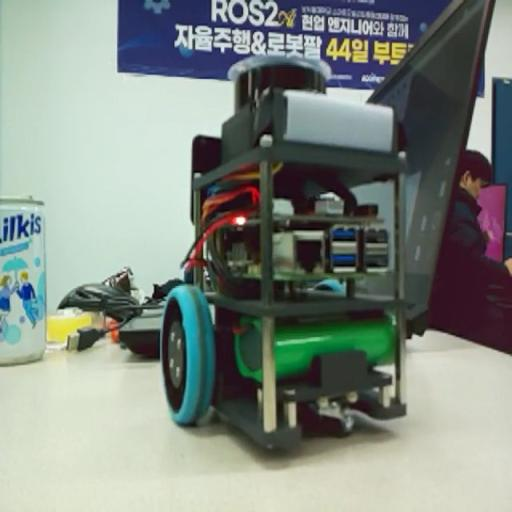pinky_63: (156, 47, 412, 459)
